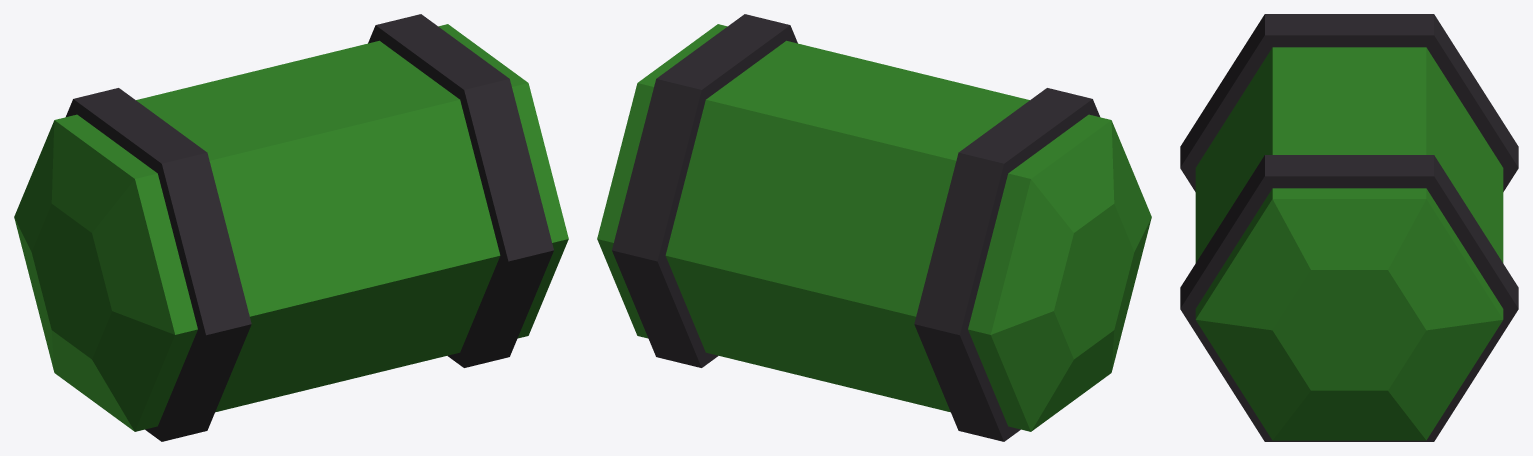
File: Dmg_Upgrade.glb
The picture shows the model from 3 angles, left to right: view 1: azimuth 30°, elevation 25°; view 2: azimuth 150°, elevation 25°; view 3: azimuth 270°, elevation 25°; orthographic projection. The views are drawn at different scales.
Parts seen in each view (by area): view 1: Dmg Upgrade; view 2: Dmg Upgrade; view 3: Dmg Upgrade.
Boxes of the visible parts, x1=… form: Dmg Upgrade: x1=14, y1=14, x2=568, y2=441; Dmg Upgrade: x1=597, y1=14, x2=1151, y2=441; Dmg Upgrade: x1=1180, y1=14, x2=1518, y2=441.
Bounding box in the file's own units: 0.5481 × 0.3317 × 0.383.
